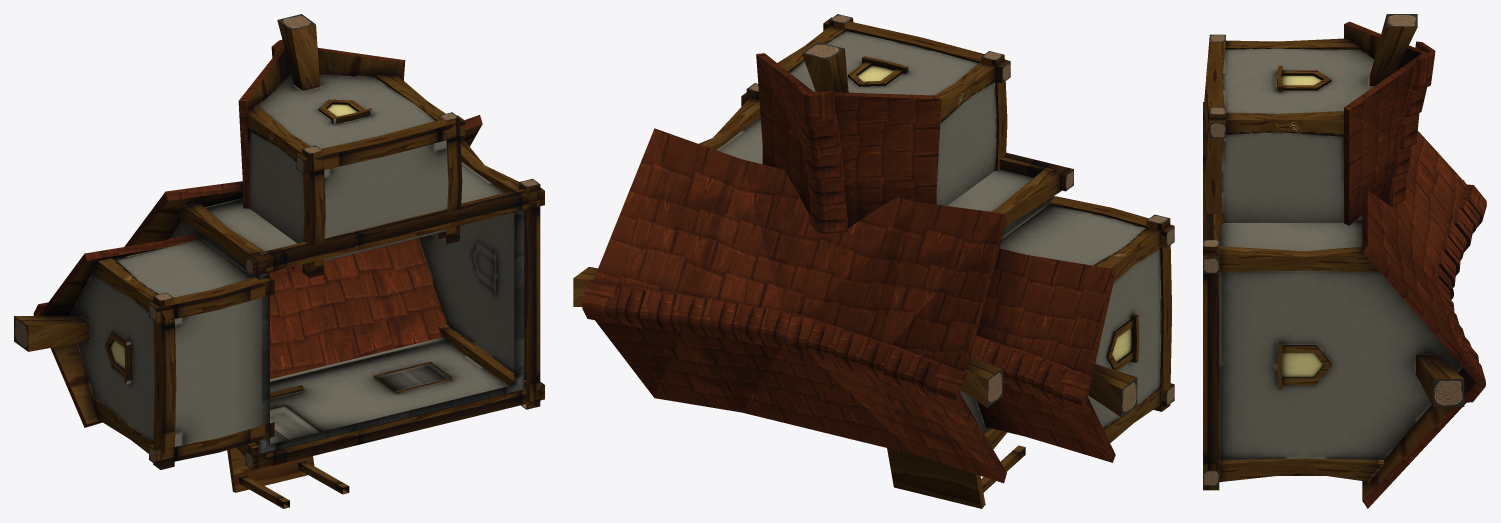
The model's file is House_03.FBX.
3 renders of one model, left to right at view 1: azimuth 30°, elevation 25°; view 2: azimuth 150°, elevation 25°; view 3: azimuth 270°, elevation 25°, orthographic. The views are drawn at different scales.
Visible parts, largest first — view 1: Object072; view 2: Object072; view 3: Object072.
Part boxes in pixels (x1,y1,x2,y2): Object072: [14, 14, 544, 508]; Object072: [573, 14, 1174, 508]; Object072: [1203, 14, 1486, 508].
Size of the model in its own units: 1858 by 1563 by 884.
